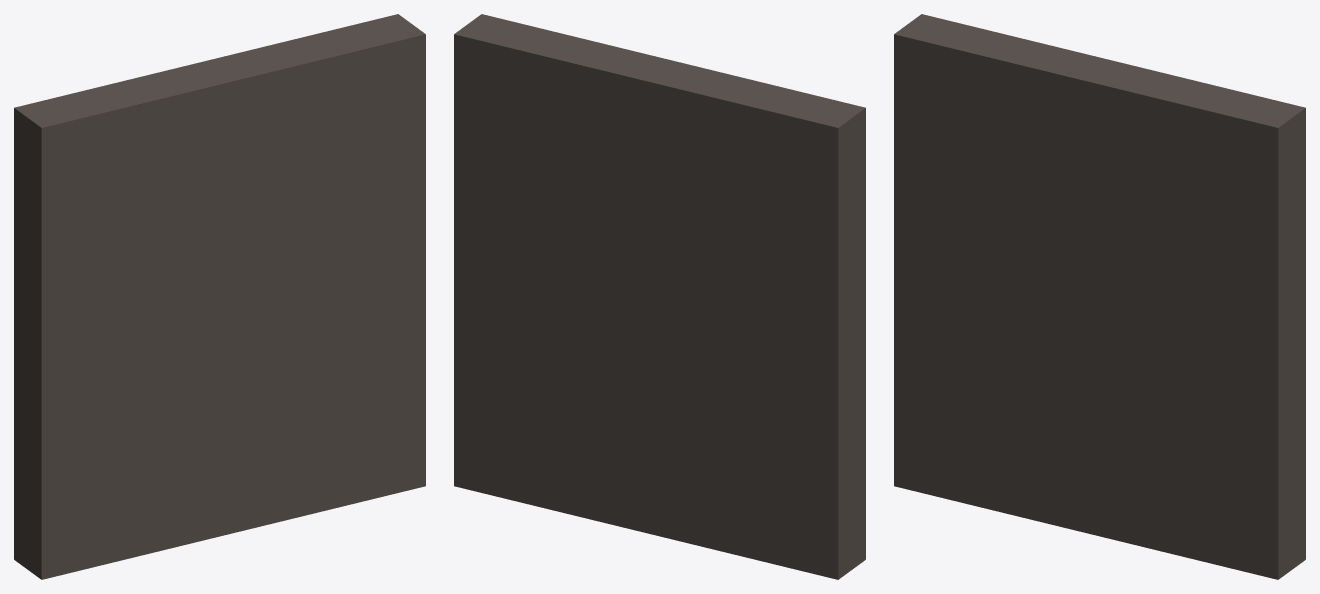
File: MCastle_SquareWall_Base.FBX
The picture shows the model from 3 angles, left to right: view 1: azimuth 30°, elevation 25°; view 2: azimuth 150°, elevation 25°; view 3: azimuth 330°, elevation 25°; orthographic projection.
Parts seen in each view (by area): view 1: MCastle_SquareWall_Base_LOD0; view 2: MCastle_SquareWall_Base_LOD0; view 3: MCastle_SquareWall_Base_LOD0.
Boxes of the visible parts, x1,y1,x2,y2 form: MCastle_SquareWall_Base_LOD0: (14, 14, 425, 579); MCastle_SquareWall_Base_LOD0: (454, 14, 865, 579); MCastle_SquareWall_Base_LOD0: (894, 14, 1305, 579).
Bounding box in the file's own units: 4 × 4.5 × 0.5.
